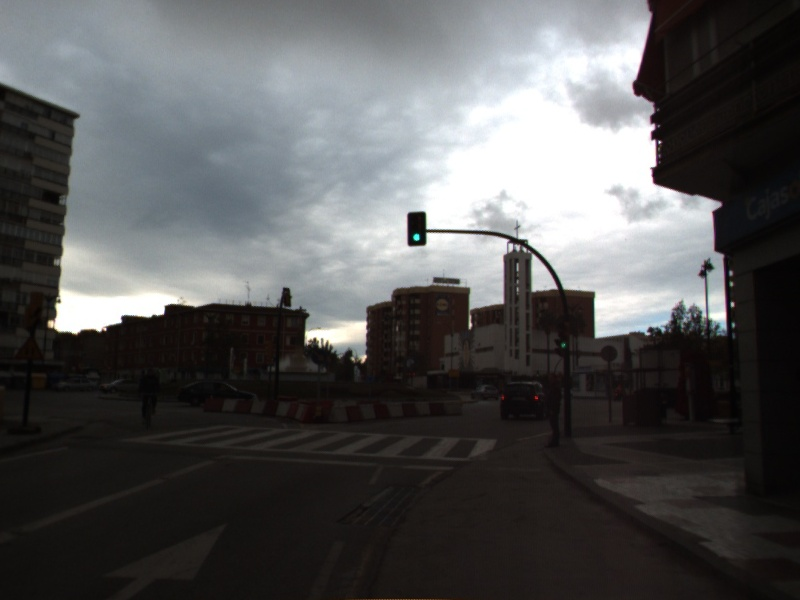STRAIGHT: (91, 520, 231, 600)
